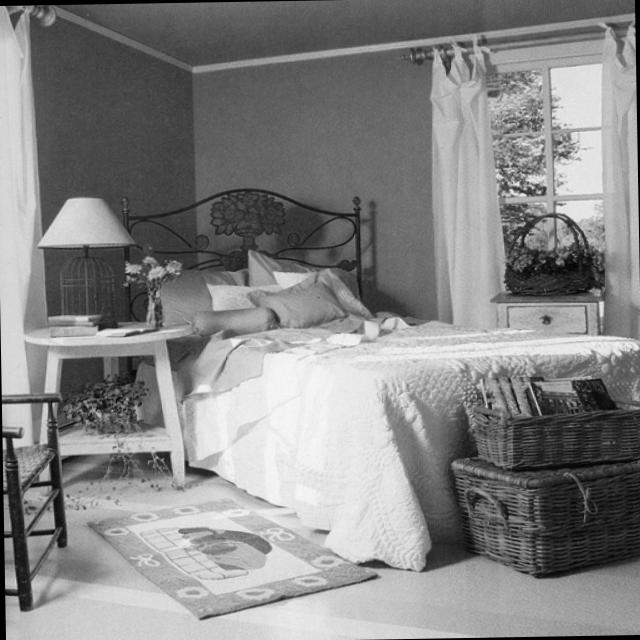2001: (481, 60, 605, 254)
Bedstead: (114, 180, 365, 355)
Wicker basket: (465, 389, 639, 466)
drawer handle: (506, 304, 583, 330)
lamp: (34, 194, 132, 241)
pillow occluded: (245, 266, 341, 326)
rug -partially obscured-: (83, 497, 376, 616)
